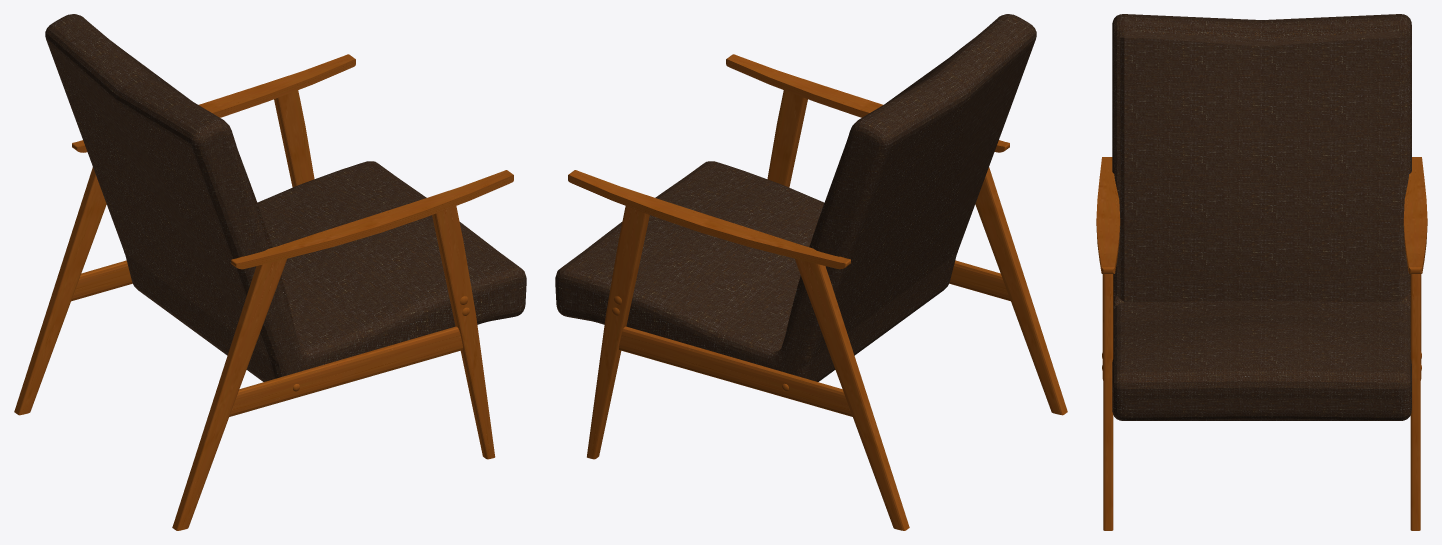
The model's file is Dillion5.glb.
3 views of the same model, side by side, from view 1: azimuth 30°, elevation 25°; view 2: azimuth 150°, elevation 25°; view 3: azimuth 270°, elevation 25° (orthographic). The views are drawn at different scales.
Visible parts, largest first — view 1: Cylinder.005, Cube.005, Cube.007, Cube.006, Cube.002, Cube.004, Cube.003, Cube.001, Cube; view 2: Cylinder.005, Cube.002, Cube, Cube.001, Cube.005, Cube.003, Cube.004, Cube.006, Cube.007; view 3: Cylinder.005, Cube.006, Cube.001, Cube.004, Cube.003.
Boxes of the visible parts, x1,y1,x2,y2 form: Cylinder.005: (45, 14, 526, 381); Cube.005: (172, 259, 286, 530); Cube.007: (229, 326, 462, 416); Cube.006: (432, 206, 495, 459); Cube.002: (14, 167, 106, 415); Cube.004: (231, 170, 513, 269); Cube.003: (72, 54, 355, 152); Cube.001: (274, 90, 314, 187); Cube: (71, 260, 132, 301); Cylinder.005: (555, 14, 1036, 381); Cube.002: (795, 258, 909, 530); Cube: (619, 326, 852, 416); Cube.001: (587, 206, 649, 459); Cube.005: (975, 167, 1067, 415); Cube.003: (568, 170, 850, 269); Cube.004: (726, 54, 1009, 152); Cube.006: (767, 90, 807, 187); Cube.007: (949, 260, 1010, 301); Cylinder.005: (1112, 14, 1411, 420); Cube.006: (1103, 274, 1113, 530); Cube.001: (1410, 274, 1420, 530); Cube.004: (1096, 157, 1120, 273); Cube.003: (1403, 157, 1427, 273).
Bounding box in the file's own units: 2.12 × 2.24 × 1.75.
Materials: 2 (2 with a texture image).
